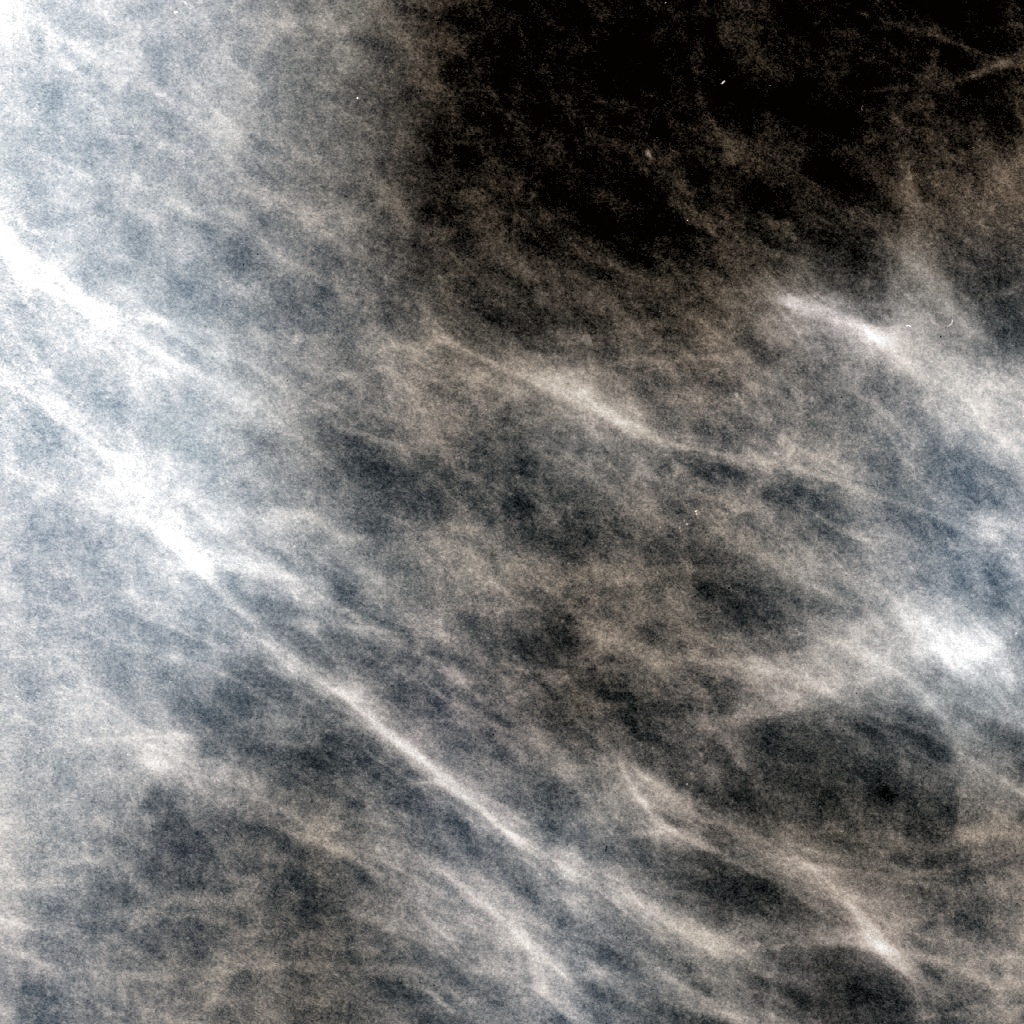tumor: (75, 352, 419, 672)
